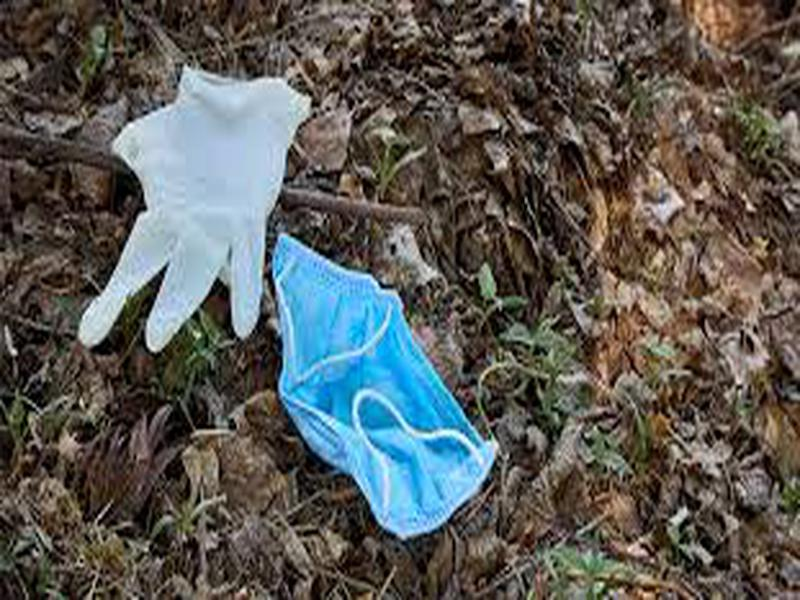gloves: (67, 56, 315, 361)
mask: (266, 230, 506, 553)
